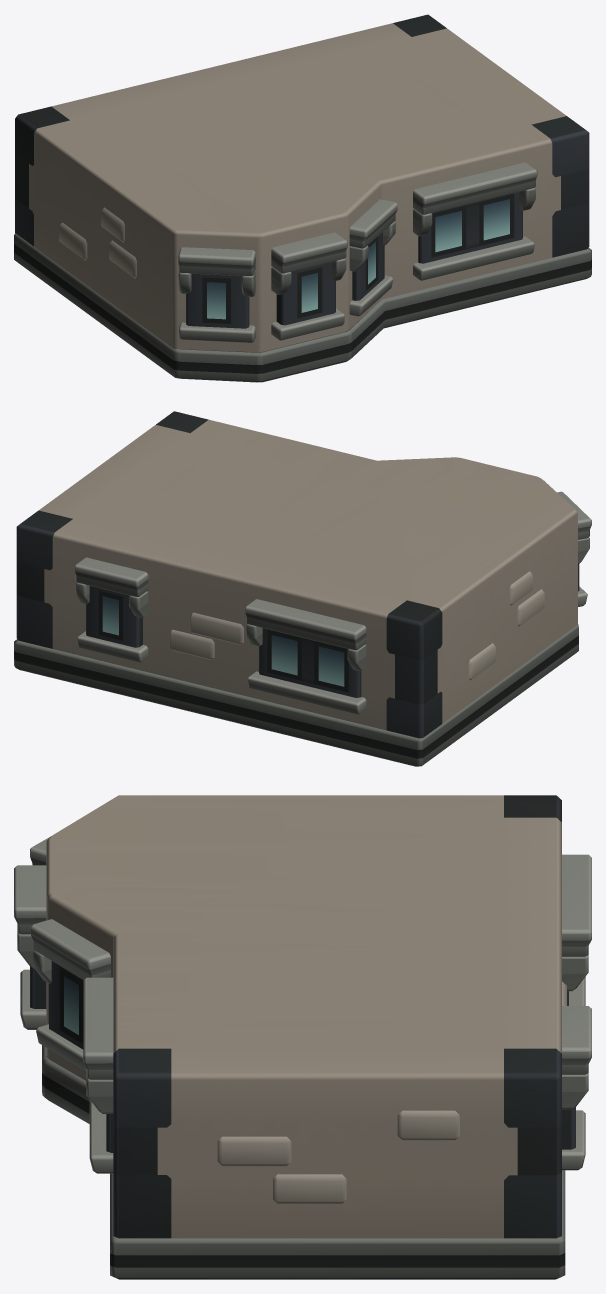
Rendered from apartment_type2_element_cream.fbx.
3 renders of one model, top to bottom at view 1: azimuth 30°, elevation 25°; view 2: azimuth 150°, elevation 25°; view 3: azimuth 270°, elevation 25°, orthographic. The views are drawn at different scales.
Visible parts, largest first — view 1: apartment_type2_element_beige1; view 2: apartment_type2_element_beige1; view 3: apartment_type2_element_beige1.
Part boxes in pixels (x1=…): apartment_type2_element_beige1: x1=14, y1=14, x2=591, y2=382; apartment_type2_element_beige1: x1=14, y1=411, x2=591, y2=766; apartment_type2_element_beige1: x1=14, y1=795, x2=591, y2=1279.
Size of the model in its own units: 1225 by 409 by 1043.
